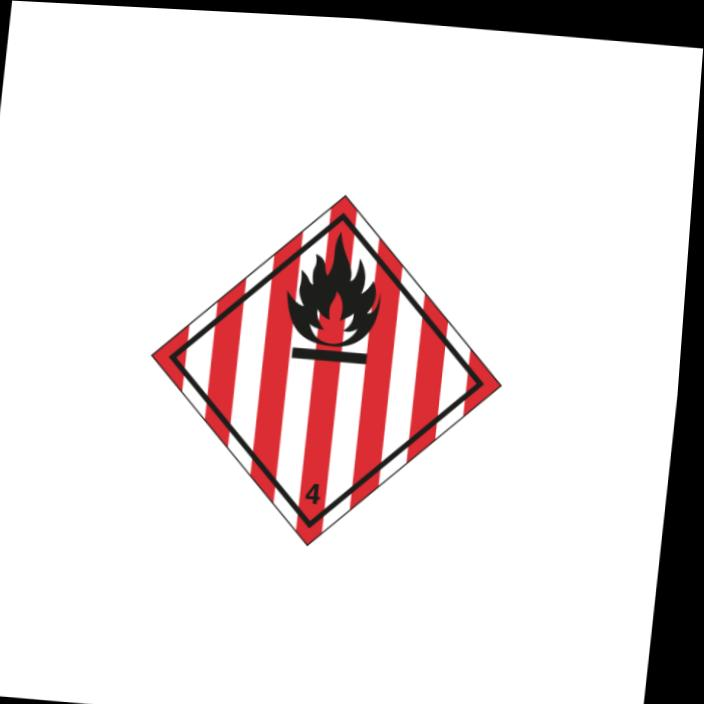chair: (125, 173, 530, 570)
